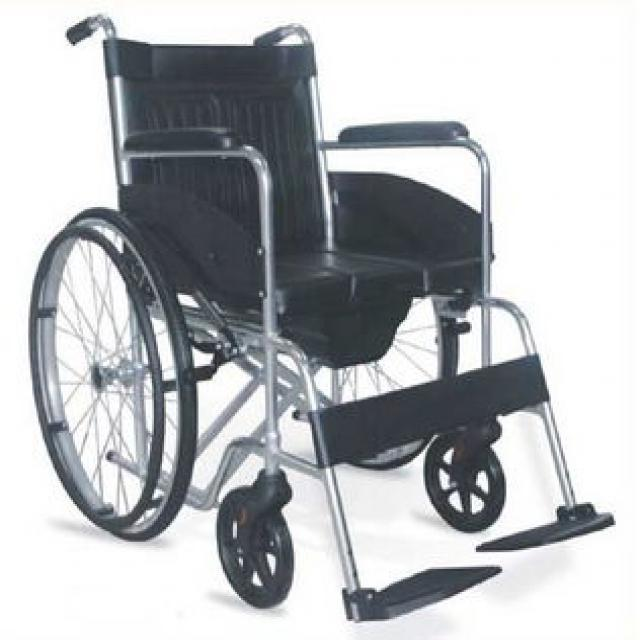wheelchair: (14, 0, 636, 632)
